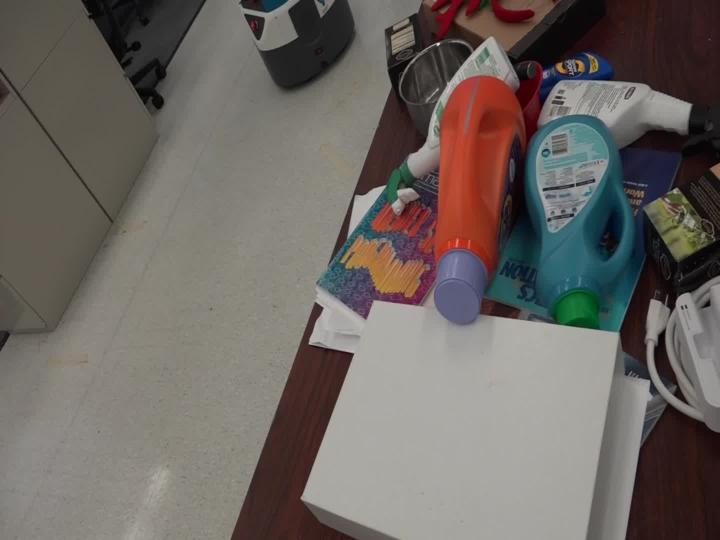downy: (514, 102, 659, 329)
